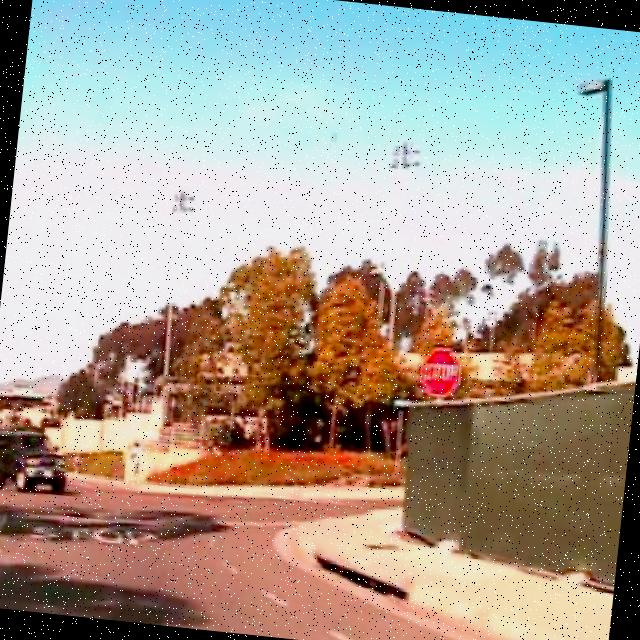Stop: (419, 341, 463, 403)
